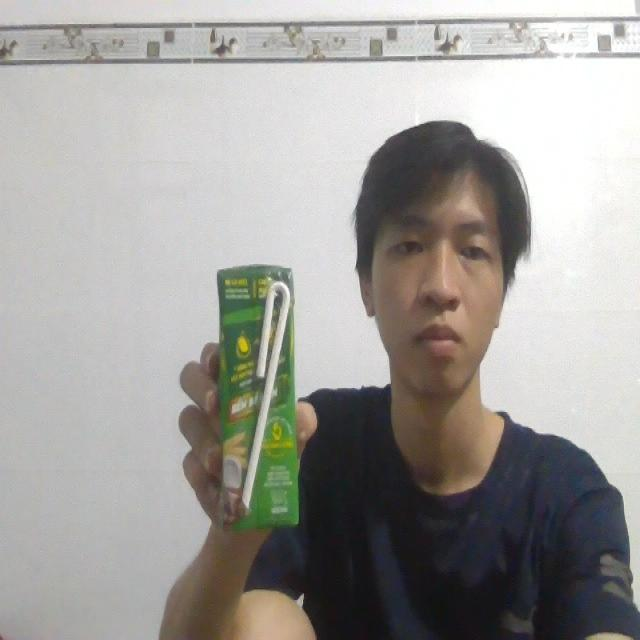sua milo: (205, 256, 308, 546)
